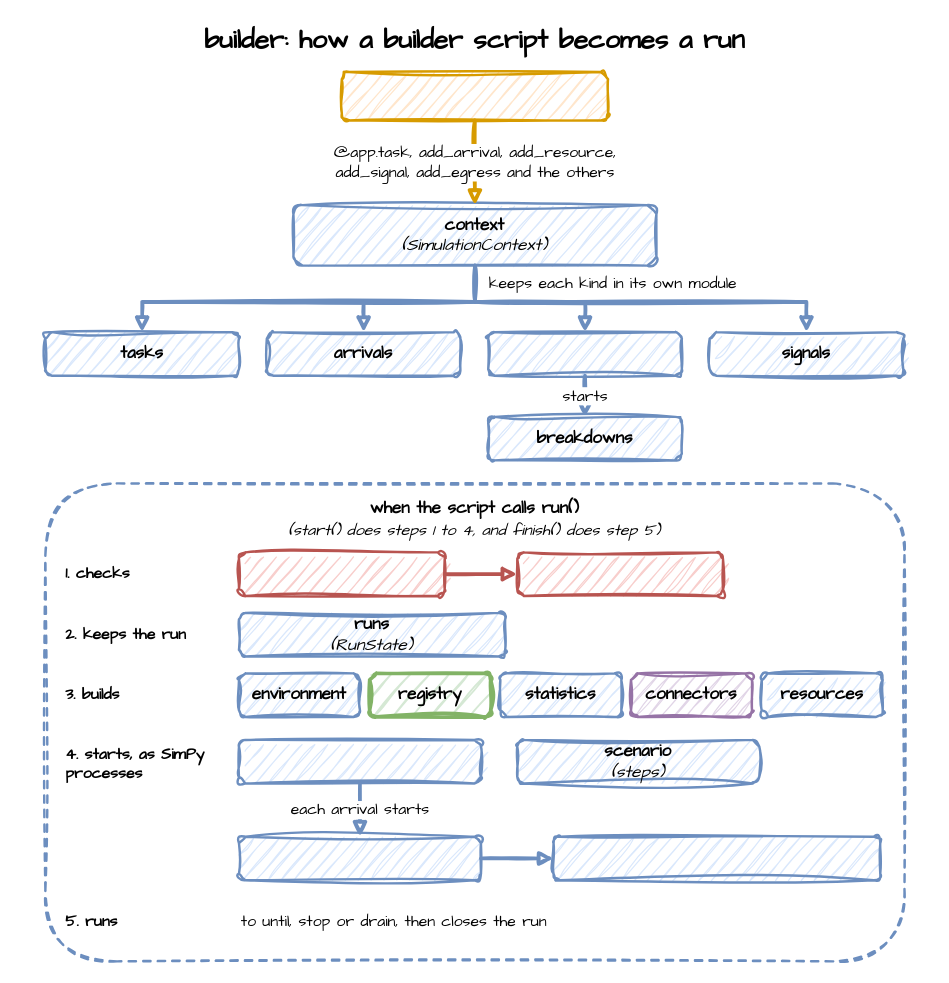
Some shapes in this 949 by 983 pixel diagram are drawn without their labels. Each missing label, with the centre of its shape:
a builder script: pixel 474 95
flow (routes the entity on): pixel 716 858
holders: pixel 584 353
model_checks: pixel 341 574
task (TaskRun): pixel 359 858
task_checks: pixel 619 574
the arrival loops: pixel 359 761
